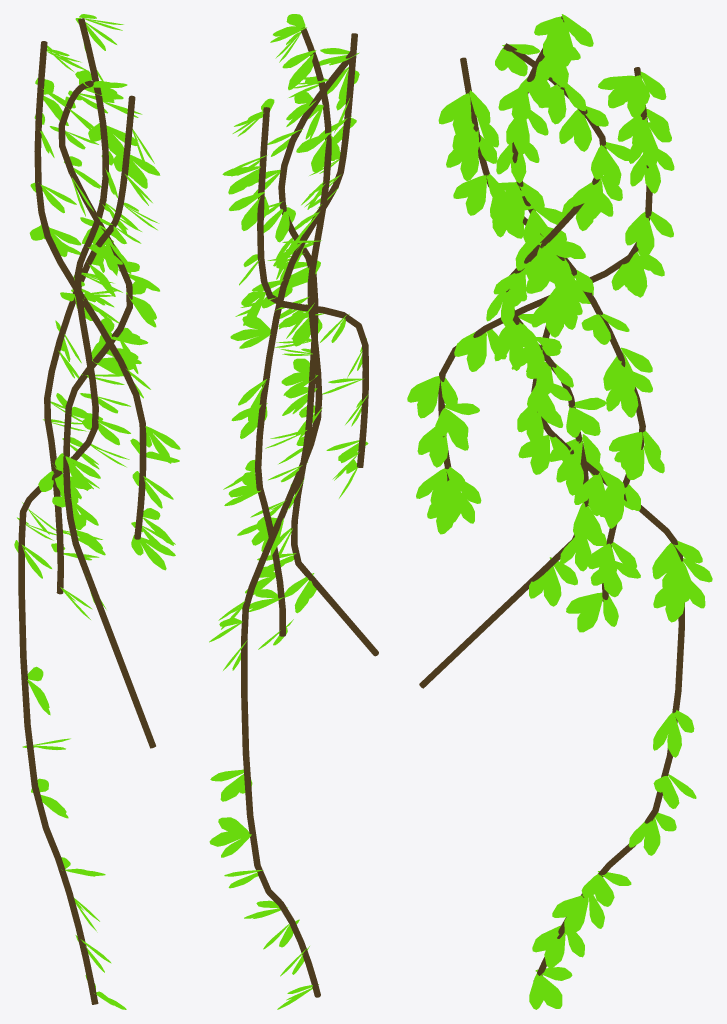
Rendered from SM_ivytest.FBX.
3 views of the same model, side by side, from view 1: azimuth 30°, elevation 25°; view 2: azimuth 150°, elevation 25°; view 3: azimuth 270°, elevation 25° (orthographic).
Visible parts, largest first — view 1: Plane033; view 2: Plane033; view 3: Plane033.
Boxes of the visible parts, x1=… form: Plane033: x1=14, y1=14, x2=180, y2=1009; Plane033: x1=209, y1=14, x2=378, y2=1009; Plane033: x1=407, y1=14, x2=712, y2=1009.
Size of the model in its own units: 91.08 by 1092 by 308.
